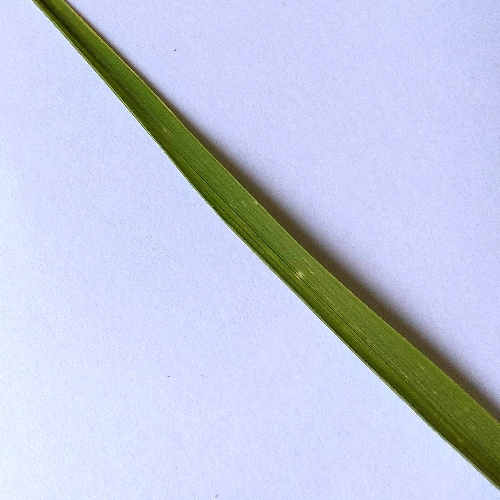Busuk Leher: (289, 266, 312, 284)
